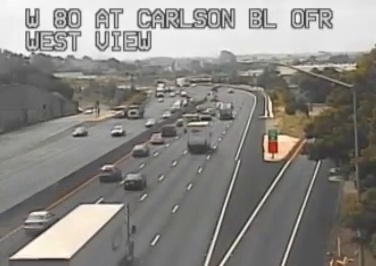car: (23, 210, 57, 232), (98, 164, 120, 182), (125, 173, 144, 190), (131, 144, 147, 157), (150, 133, 163, 145)
small-truck: (186, 122, 210, 150)
truck: (8, 203, 130, 266)
